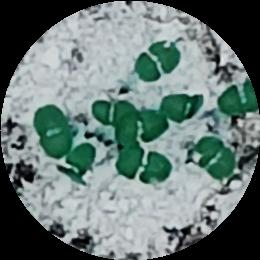Basil: (32, 104, 72, 157), (117, 109, 172, 147), (133, 38, 181, 81), (117, 146, 167, 186), (196, 134, 236, 182), (60, 140, 100, 187), (216, 80, 260, 118), (163, 91, 207, 121), (92, 97, 131, 128)
